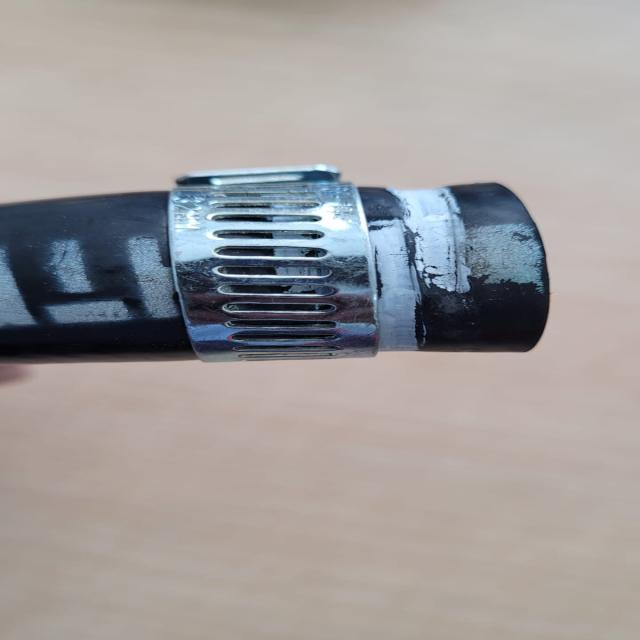clamp: (165, 164, 383, 366)
pipe: (369, 186, 544, 354)
